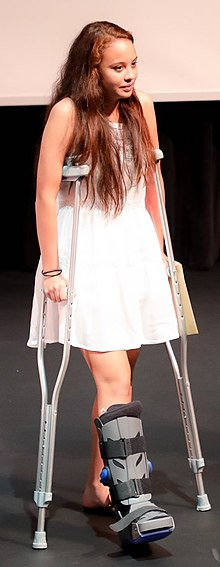crutches: (27, 22, 212, 550)
